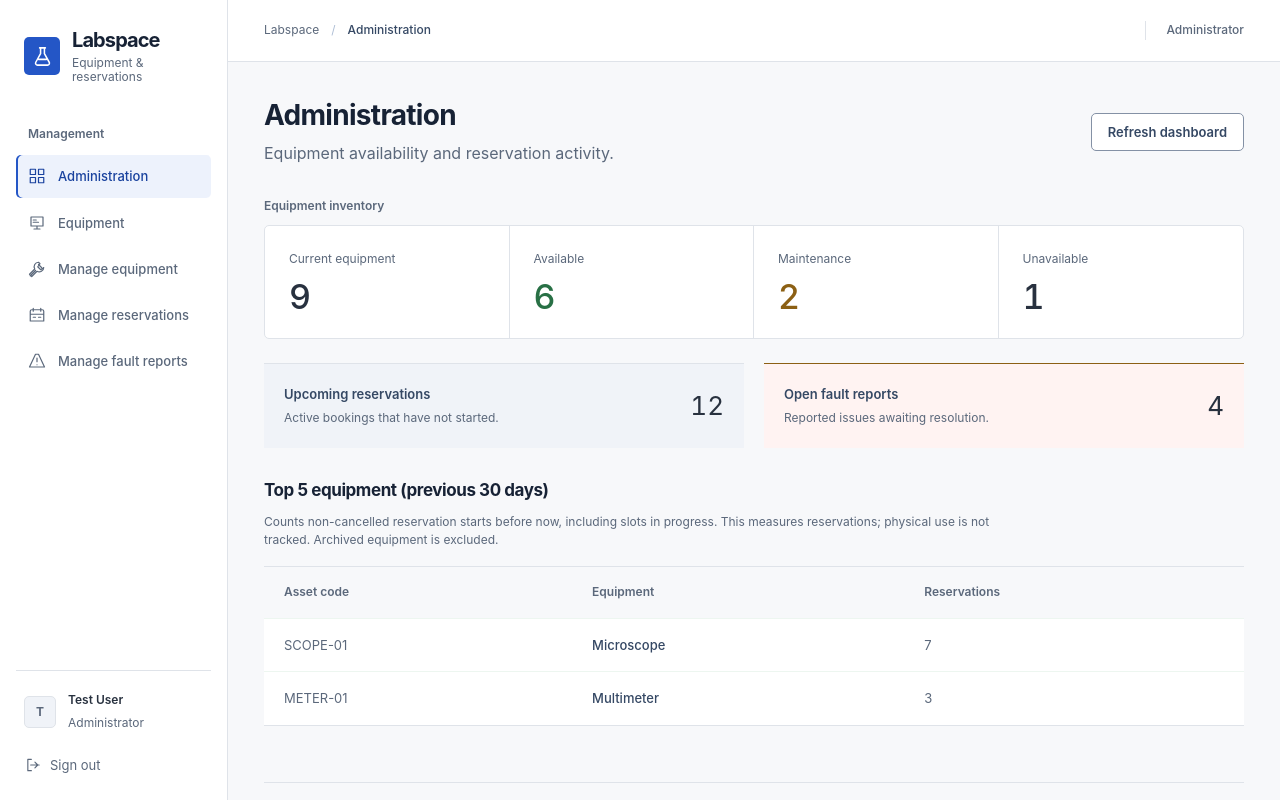
it: explicit refresh recalculates displayed metrics and removes stale usage rows
Check: the table is shown, box [264,567,1244,725]
Step 1. Click the button "Refresh dashboard" → point(1167, 132), box [1091,113,1244,151]
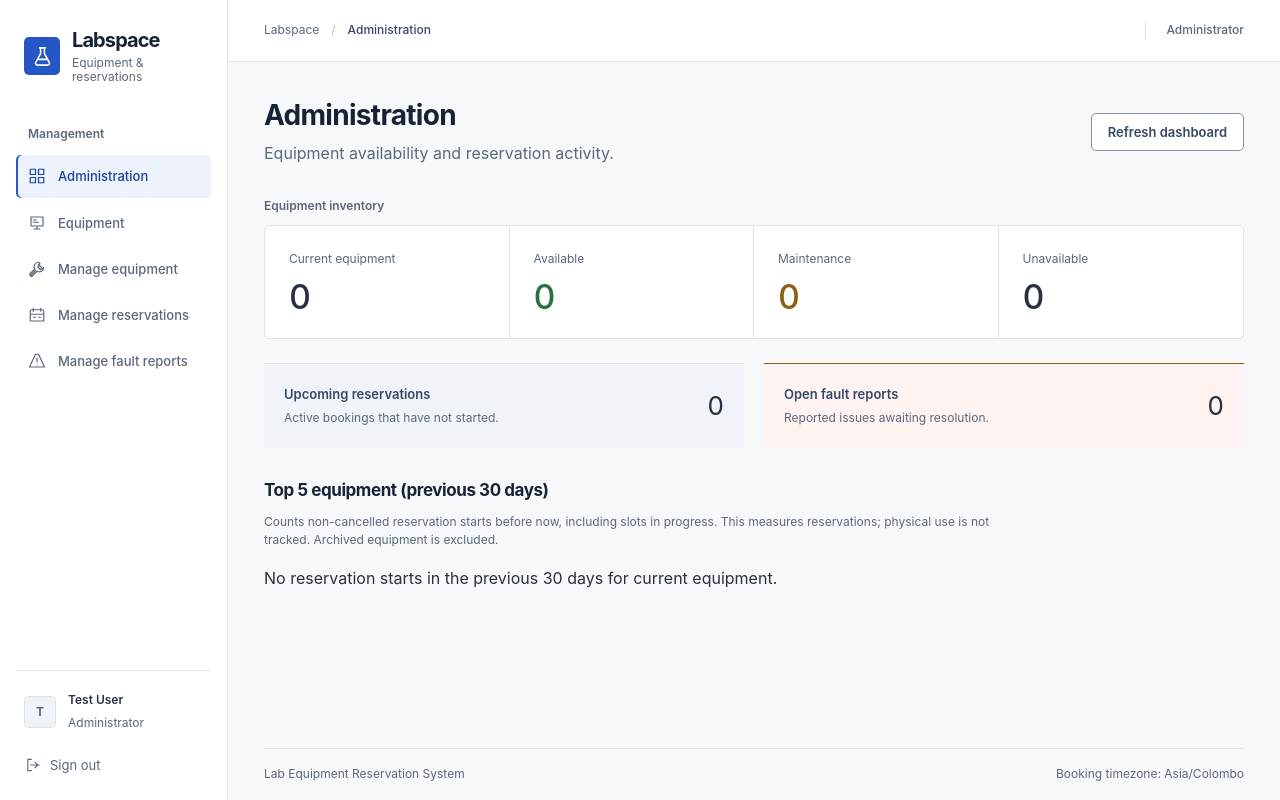
Check: the text "No reservation starts in the previous 30 days for current equipment." is shown, box [264,568,777,588]
Check: the text "0" in the row of "Reported issues awaiting resolution." is shown, box [1207,390,1224,421]
Check: the link "Microscope" is gone
